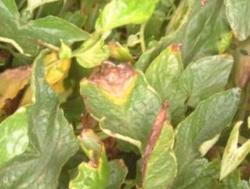Tomato mold leaf: (45, 37, 216, 189), (136, 70, 250, 189), (8, 0, 95, 81), (227, 54, 250, 110)
